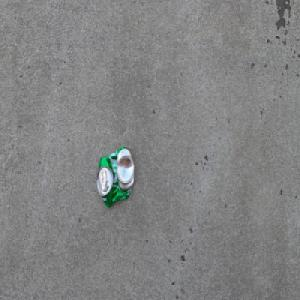SodaCan: (96, 146, 135, 209)
